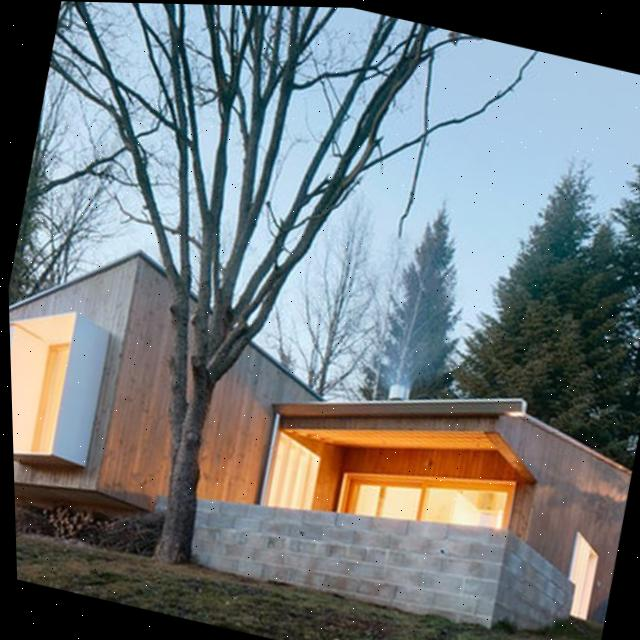building: (7, 221, 640, 634)
